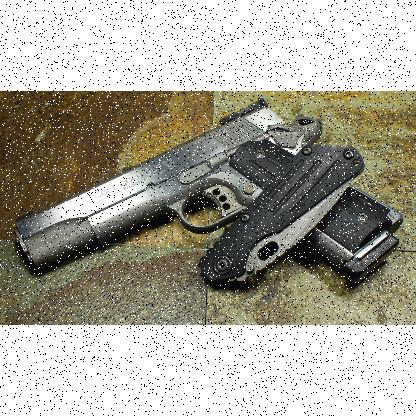gun: (11, 94, 403, 282)
